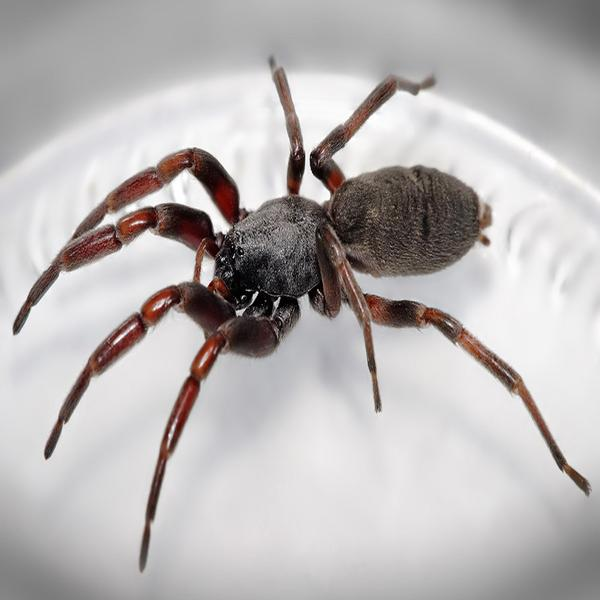White-Tailed_Spider: (13, 57, 589, 566)
